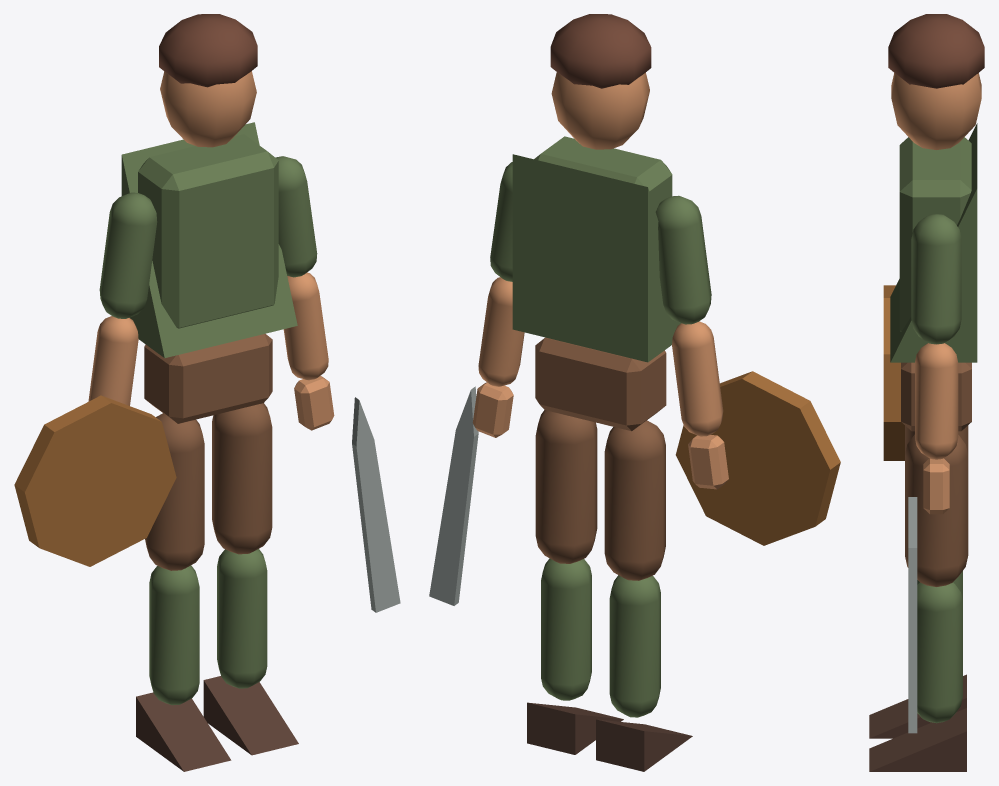
Rendered from adventurer.rustic.glb.
The picture shows the model from 3 angles, left to right: view 1: azimuth 30°, elevation 25°; view 2: azimuth 150°, elevation 25°; view 3: azimuth 270°, elevation 25°; orthographic projection.
Visible parts, largest first — view 1: torso, accessory.off-hand, pelvis, thigh.right, tunic, shin.left, shin.right, thigh.left, hair, upper-arm.left, accessory.main-hand, head (+6 smaller); view 2: tunic, accessory.off-hand, pelvis, thigh.left, thigh.right, shin.left, shin.right, hair, upper-arm.left, head, accessory.main-hand, forearm.left (+7 smaller); view 3: torso, thigh.right, shin.right, upper-arm.right, hair, tunic, head, forearm.right, foot.right, accessory.off-hand, accessory.main-hand, pelvis (+3 smaller).
Part boxes in pixels (x1=…): torso: x1=138, y1=134, x2=278, y2=328; accessory.off-hand: x1=14, y1=395, x2=176, y2=566; pelvis: x1=144, y1=333, x2=272, y2=423; thigh.right: x1=212, y1=403, x2=272, y2=554; tunic: x1=121, y1=122, x2=297, y2=357; shin.left: x1=149, y1=565, x2=199, y2=705; shin.right: x1=217, y1=549, x2=267, y2=688; thigh.left: x1=145, y1=413, x2=204, y2=570; hair: x1=159, y1=14, x2=257, y2=87; upper-arm.left: x1=99, y1=192, x2=157, y2=318; accessory.main-hand: x1=352, y1=397, x2=400, y2=612; head: x1=160, y1=71, x2=256, y2=147; tunic: x1=512, y1=154, x2=680, y2=362; accessory.off-hand: x1=675, y1=371, x2=840, y2=545; pelvis: x1=535, y1=337, x2=666, y2=431; thigh.left: x1=604, y1=420, x2=665, y2=580; thigh.right: x1=535, y1=410, x2=597, y2=563; shin.left: x1=609, y1=575, x2=660, y2=717; shin.right: x1=541, y1=558, x2=591, y2=700; hair: x1=550, y1=14, x2=651, y2=88; upper-arm.left: x1=655, y1=195, x2=711, y2=324; head: x1=551, y1=72, x2=649, y2=149; accessory.main-hand: x1=429, y1=386, x2=478, y2=605; forearm.left: x1=672, y1=321, x2=723, y2=436; torso: x1=899, y1=137, x2=971, y2=331; thigh.right: x1=905, y1=434, x2=968, y2=586; shin.right: x1=917, y1=582, x2=962, y2=723; upper-arm.right: x1=911, y1=214, x2=961, y2=344; hair: x1=888, y1=14, x2=984, y2=88; tunic: x1=890, y1=123, x2=977, y2=362; head: x1=891, y1=73, x2=981, y2=149; forearm.right: x1=915, y1=343, x2=958, y2=459; foot.right: x1=869, y1=708, x2=966, y2=771; accessory.off-hand: x1=883, y1=285, x2=904, y2=460; accessory.main-hand: x1=908, y1=497, x2=917, y2=733; pelvis: x1=901, y1=362, x2=971, y2=431.
Bounding box in the file's own units: 1.72 × 3.03 × 0.4376.
